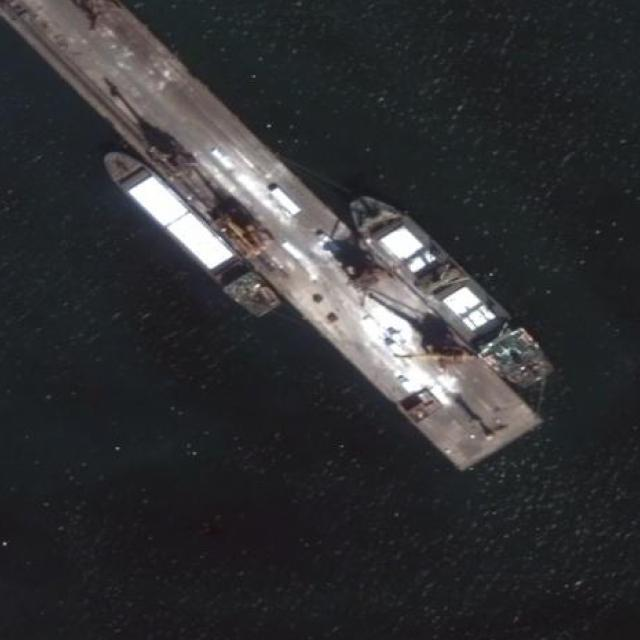Cargo: (339, 180, 556, 398), (95, 140, 281, 323)
